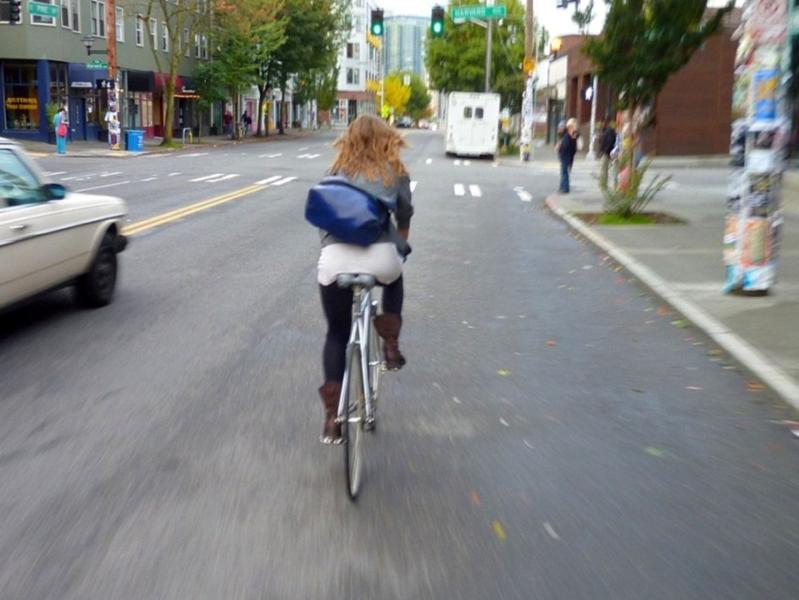person: (301, 113, 416, 450)
